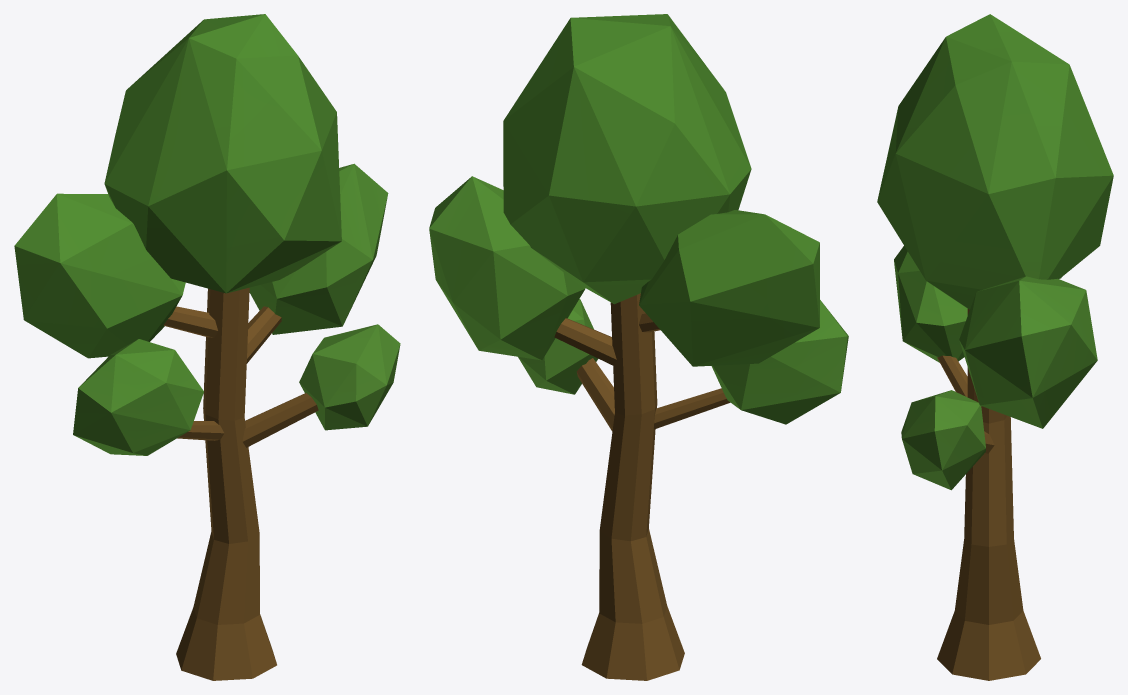
The model's file is oak_big.fbx.
The picture shows the model from 3 angles, left to right: view 1: azimuth 30°, elevation 25°; view 2: azimuth 150°, elevation 25°; view 3: azimuth 270°, elevation 25°; orthographic projection. The views are drawn at different scales.
Visible parts, largest first — view 1: oak_big; view 2: oak_big; view 3: oak_big.
Boxes of the visible parts, bbox=[...] form: oak_big: bbox=[14, 14, 400, 680]; oak_big: bbox=[429, 14, 848, 680]; oak_big: bbox=[877, 14, 1113, 680].
Size of the model in its own units: 3.09 by 5 by 1.71.
